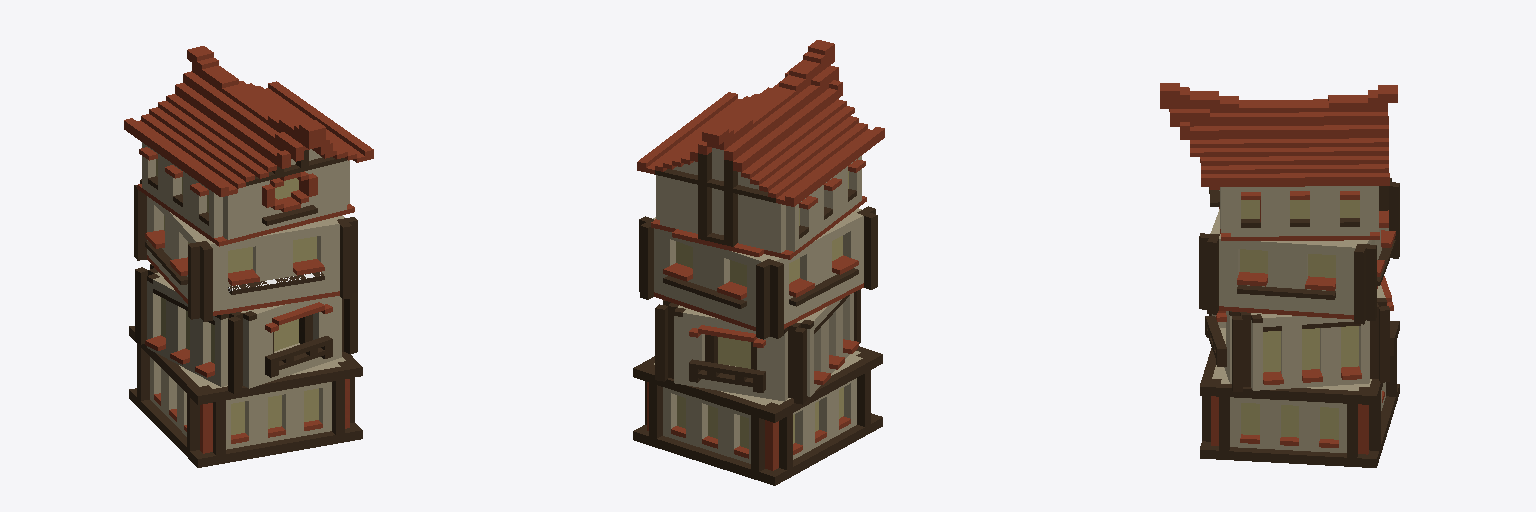
Rendered from TowerExample2.obj.
The picture shows the model from 3 angles: view 1: azimuth 30°, elevation 25°; view 2: azimuth 150°, elevation 25°; view 3: azimuth 270°, elevation 25°; orthographic projection.
Visible parts, largest first — view 1: TowerExample2; view 2: TowerExample2; view 3: TowerExample2.
Boxes of the visible parts, box(x1,y1,x2,y2) form: TowerExample2: box(124, 46, 373, 467); TowerExample2: box(633, 40, 884, 485); TowerExample2: box(1160, 83, 1399, 467).
Size of the model in its own units: 1.27 by 2.36 by 1.52.